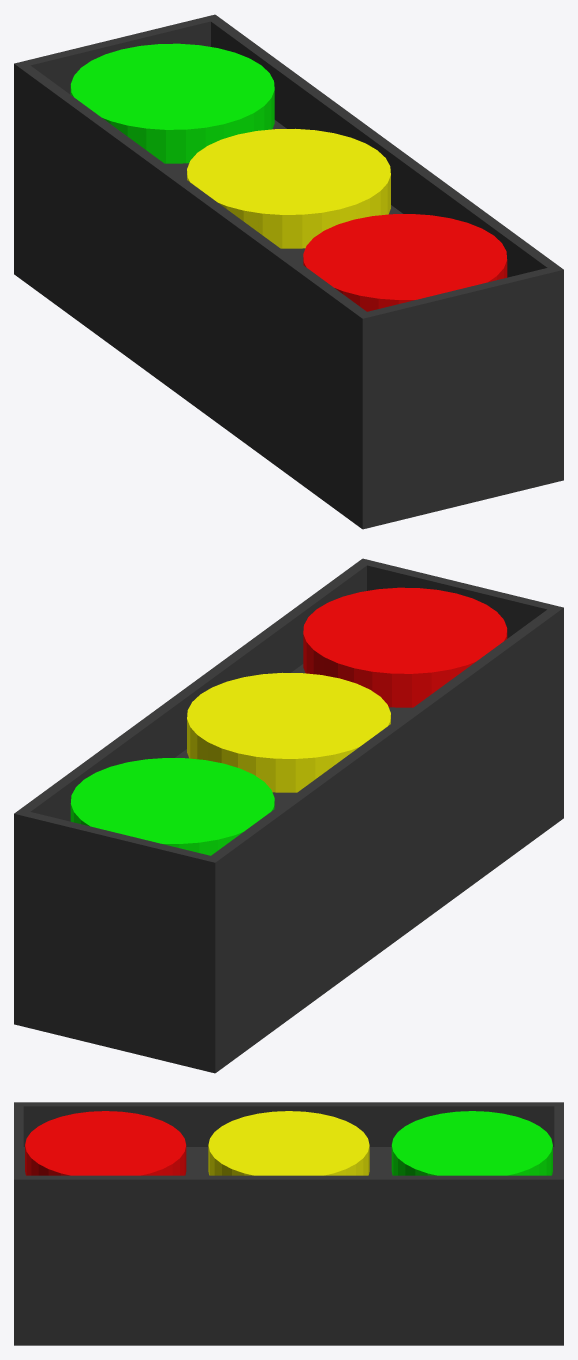
The model's file is TrafficLights.fbx.
The picture shows the model from 3 angles, top to bottom: view 1: azimuth 30°, elevation 25°; view 2: azimuth 150°, elevation 25°; view 3: azimuth 270°, elevation 25°; orthographic projection. The views are drawn at different scales.
Visible parts, largest first — view 1: TrafficLights, GreenLight, YellowLight, RedLight; view 2: TrafficLights, RedLight, YellowLight, GreenLight; view 3: TrafficLights, YellowLight, GreenLight, RedLight.
Part boxes in pixels (bbox=[...]): TrafficLights: bbox=[14, 14, 563, 529]; GreenLight: bbox=[70, 43, 274, 163]; YellowLight: bbox=[187, 128, 390, 248]; RedLight: bbox=[303, 214, 507, 311]; TrafficLights: bbox=[14, 558, 563, 1073]; RedLight: bbox=[303, 587, 507, 707]; YellowLight: bbox=[187, 672, 390, 792]; GreenLight: bbox=[70, 758, 274, 855]; TrafficLights: bbox=[14, 1102, 563, 1345]; YellowLight: bbox=[208, 1111, 369, 1175]; GreenLight: bbox=[391, 1111, 552, 1175]; RedLight: bbox=[25, 1111, 186, 1175].
Size of the model in its own units: 200 by 200 by 600.
